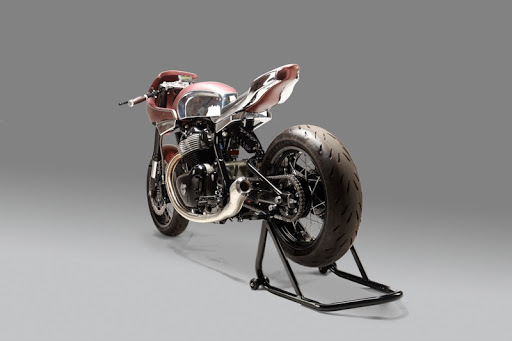motorcycle: (119, 63, 363, 264)
